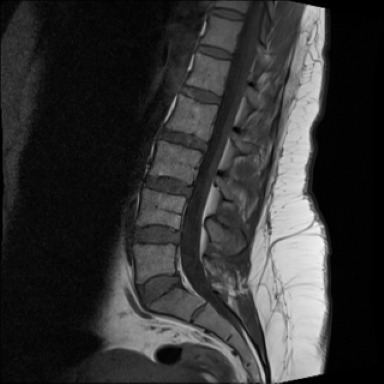Degenerative Disc Disease (DDD): (143, 171, 198, 203), (156, 126, 212, 155)
Lumbar Disc Bulge (LDB): (131, 226, 186, 248)
Normal IVD: (133, 271, 186, 311), (175, 81, 226, 109), (191, 43, 236, 64), (207, 7, 248, 25)
Spinal Stenosis (SS): (178, 182, 200, 205), (170, 228, 187, 253)
